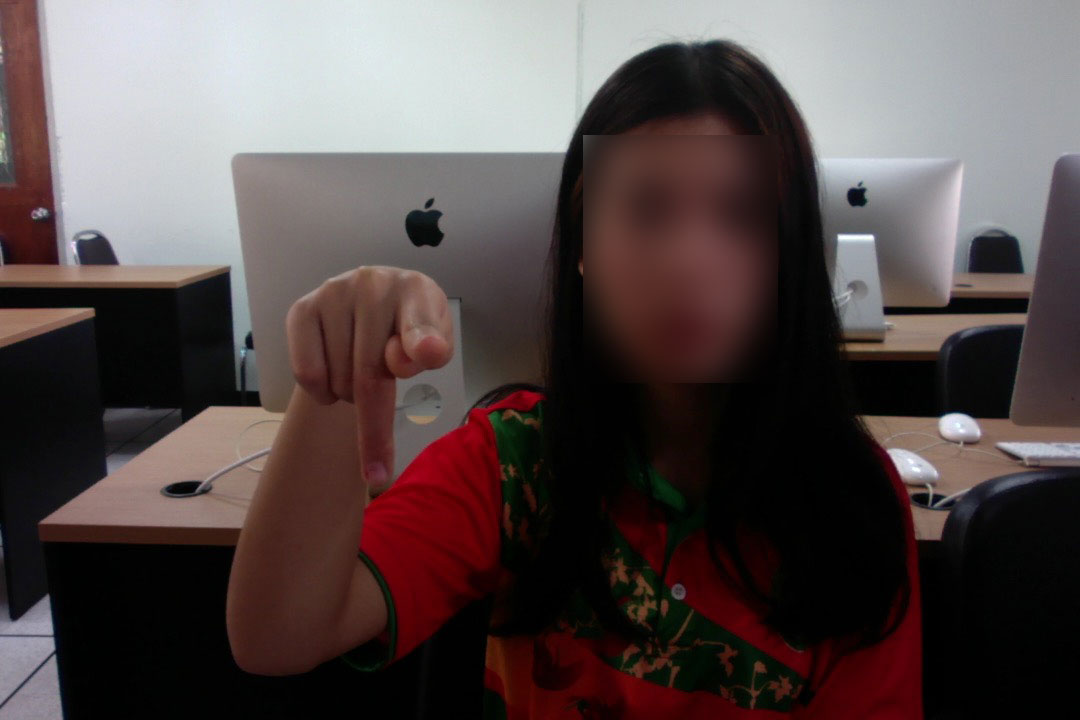por: (274, 253, 459, 492)
